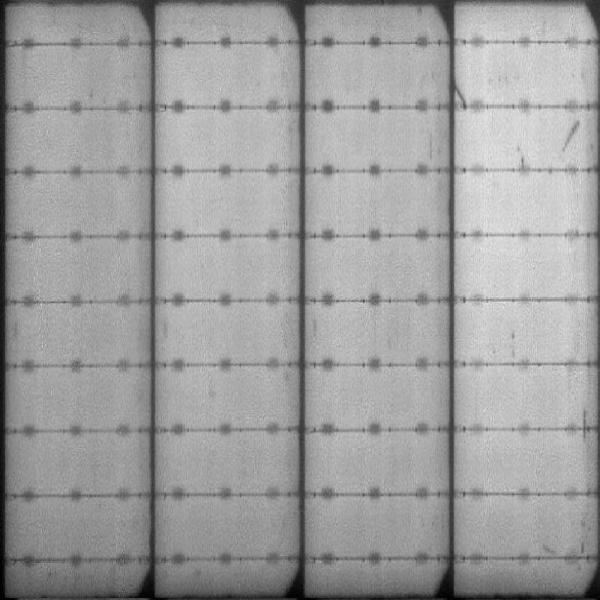scratch: (562, 121, 586, 153), (453, 87, 477, 110), (578, 406, 591, 448)
